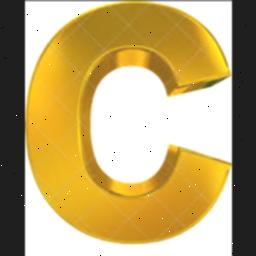c: (29, 3, 229, 245)
